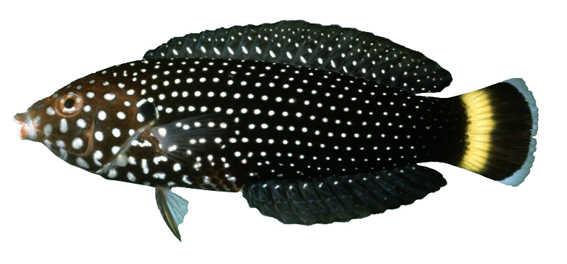fish: (14, 19, 539, 240)
